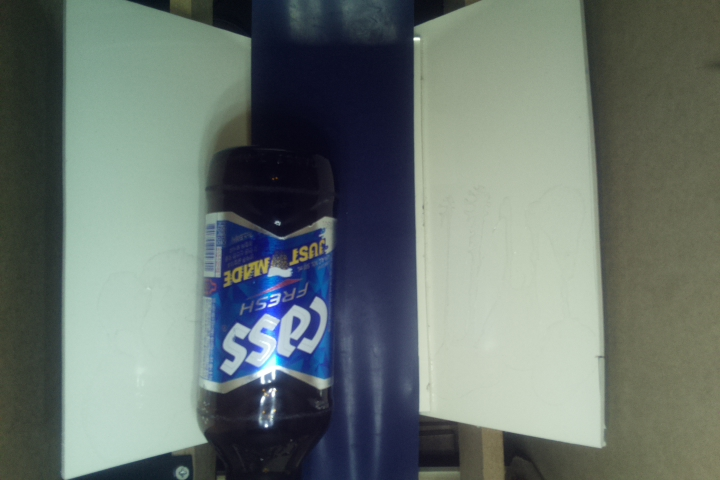makju: (202, 146, 333, 480)
